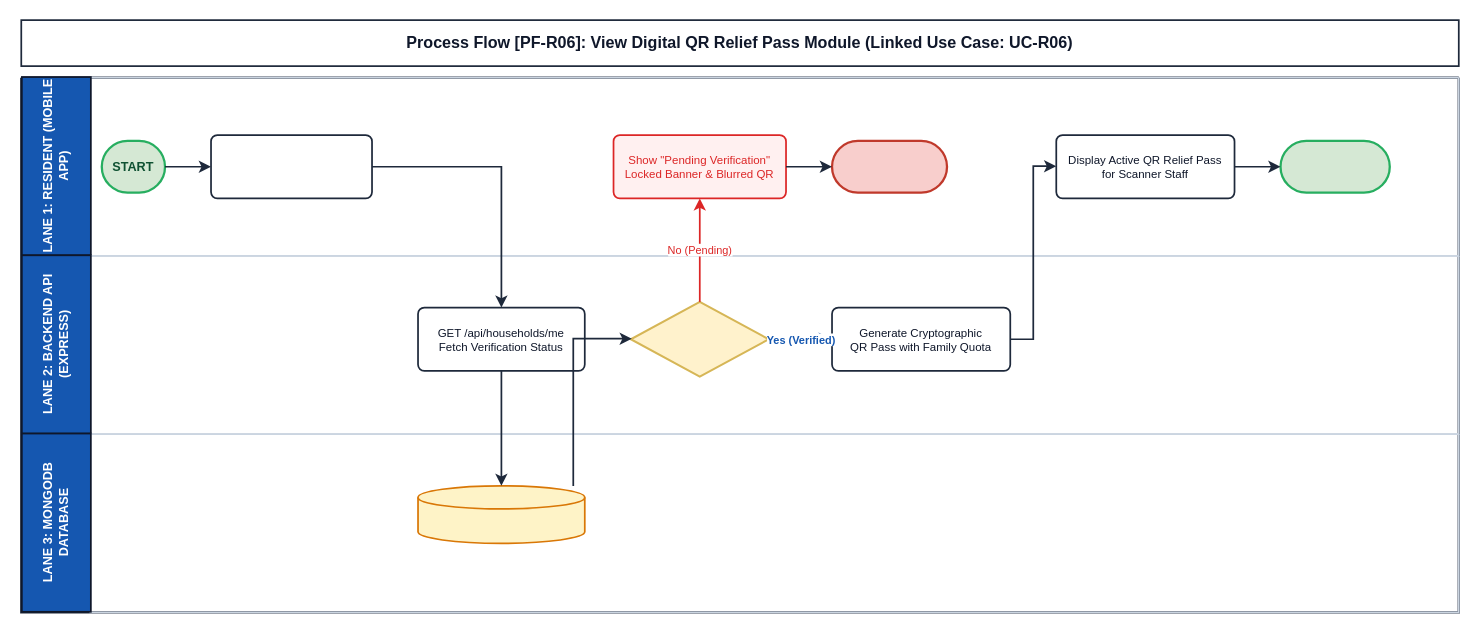
Image size: 1479x634. Some labels were removed from this diagram. Each missing label, with the centre of its shape:
END: QR Active: point (1334, 166)
END: QR Locked: point (889, 166)
MongoDB: Query Household & Verification Flag: point (501, 514)
Open QR Pass Tab on Home Screen: point (291, 166)
Status = "verified"?: point (699, 338)
